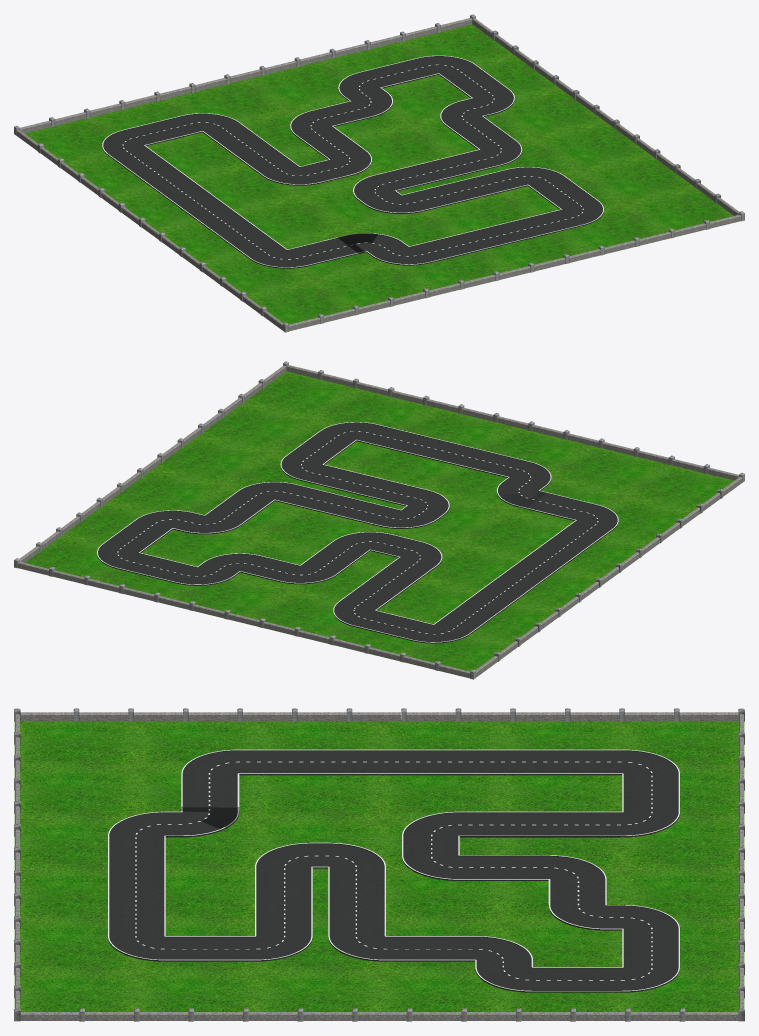
The model's file is map2backup.gltf.
The picture shows the model from 3 angles, top to bottom: view 1: azimuth 30°, elevation 25°; view 2: azimuth 150°, elevation 25°; view 3: azimuth 270°, elevation 25°; orthographic projection. The views are drawn at different scales.
Parts seen in each view (by area): view 1: grass, road, Cube; view 2: grass, road, Cube; view 3: grass, road, Cube.
Part boxes in pixels (box(x1,y1,x2,y2)): grass: box(24, 24, 733, 324); road: box(102, 55, 603, 268); Cube: box(14, 14, 744, 332); grass: box(25, 371, 734, 671); road: box(97, 422, 618, 643); Cube: box(14, 361, 744, 679); grass: box(14, 719, 744, 1020); road: box(108, 749, 679, 992); Cube: box(14, 708, 744, 1021).
Size of what is drawn, in the model's own units: 864 by 15.41 by 882.
Materials: 5 (5 with a texture image).
